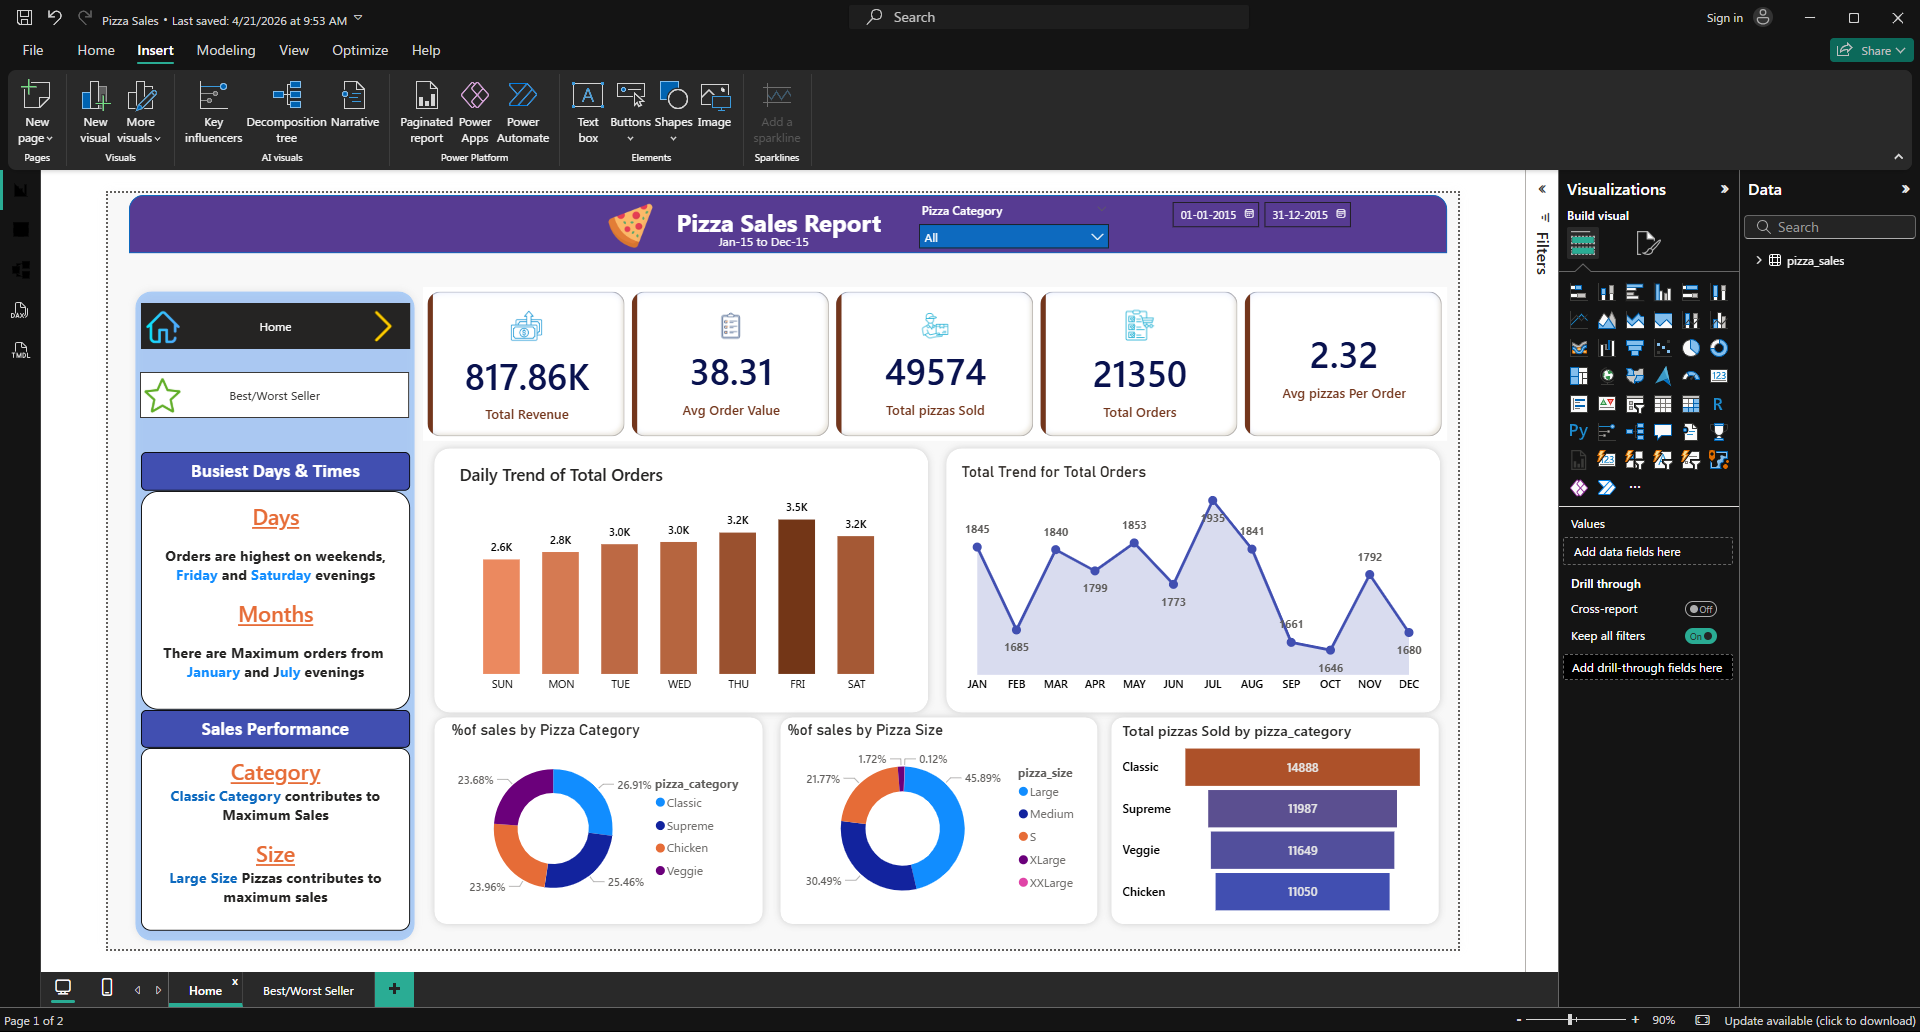

What the dashboard file says about the page in this screenshot:
{"tool":"powerbi","page":{"name":"Home","canvas":[1500,839],"ordinal":0},"visuals":[{"type":"cardVisual","fields":{"Data":["pizza_sales.Total Revenue","pizza_sales.Avg Order Value","pizza_sales.Total pizzas Sold","pizza_sales.Total Orders","pizza_sales.Avg pizzas Per Order"]},"box":[350,87.8,1137.8,170.7],"z":0},{"type":"shape","box":[23.2,2.4,1464.6,64.6],"z":1000},{"type":"textbox","box":[626.8,8.5,246.3,53.7],"z":2000},{"type":"textbox","box":[673.4,40.3,122.9,31],"z":3000},{"type":"image","box":[550.5,0,60.9,73.3],"z":4000},{"type":"shape","box":[354.2,275.7,564.9,309.8],"z":5000},{"type":"columnChart","title":"Daily Trend of Total Orders","fields":{"Category":["pizza_sales.order Day"],"Y":["pizza_sales.Total Orders"]},"box":[385.2,299.5,498.8,264.4],"z":6000},{"type":"shape","box":[923.3,275.7,564.9,309.8],"z":7000},{"type":"areaChart","title":"Total Trend for Total Orders","fields":{"Category":["pizza_sales.Order Month"],"Y":["pizza_sales.Total Orders"]},"box":[942.9,299.5,524.6,264.4],"z":8000},{"type":"shape","box":[354.2,574.2,381.1,245.8],"z":9000},{"type":"shape","box":[738.4,574.2,368.7,245.8],"z":10000},{"type":"shape","box":[1107.1,574.2,380.1,245.8],"z":11000},{"type":"shape","box":[22.2,101.1,326.7,737.8],"z":12000},{"type":"donutChart","title":"%of sales by Pizza Category","fields":{"Category":["pizza_sales.pizza_category"],"Y":["pizza_sales.Total Revenue"]},"box":[377,586.6,346,220],"z":13000},{"type":"donutChart","title":"%of sales by Pizza Size","fields":{"Y":["pizza_sales.Total Revenue"],"Category":["pizza_sales.pizza_size"]},"box":[749.8,586.6,346,220],"z":14000},{"type":"funnel","fields":{"Category":["pizza_sales.pizza_category"],"Y":["pizza_sales.Total pizzas Sold"]},"box":[1122.3,586.9,345.4,220],"z":15000},{"type":"textbox","box":[36.7,287.8,298.9,43.3],"z":16000},{"type":"textbox","box":[37.1,331.4,299.3,242.9],"z":17000},{"type":"textbox","box":[36.7,574.4,298.9,42.2],"z":18000},{"type":"textbox","box":[36.7,616.7,298.9,203.3],"z":19000},{"type":"slicer","fields":{"Values":["pizza_sales.pizza_category"]},"box":[891.1,5.6,231.1,61.1],"z":20000},{"type":"slicer","fields":{"Values":["pizza_sales.order_date"]},"box":[1170,0,227.6,66.5],"z":21000}]}

Visuals, with their boxes on the page's 1500x839 design canvas (x1, y1, x2, y2). These are canvas units, not pixel positions in the 1920x1032 screenshot, which may show the page scaled, cropped or inside an application window:
cardVisual - pizza_sales.Total Revenue x pizza_sales.Avg Order Value: x1=350, y1=88, x2=1488, y2=258
shape: x1=23, y1=2, x2=1488, y2=67
textbox: x1=627, y1=8, x2=873, y2=62
textbox: x1=673, y1=40, x2=796, y2=71
image: x1=550, y1=0, x2=611, y2=73
shape: x1=354, y1=276, x2=919, y2=586
"Daily Trend of Total Orders" columnChart: x1=385, y1=300, x2=884, y2=564
shape: x1=923, y1=276, x2=1488, y2=586
"Total Trend for Total Orders" areaChart: x1=943, y1=300, x2=1468, y2=564
shape: x1=354, y1=574, x2=735, y2=820
shape: x1=738, y1=574, x2=1107, y2=820
shape: x1=1107, y1=574, x2=1487, y2=820
shape: x1=22, y1=101, x2=349, y2=839
"%of sales by Pizza Category" donutChart: x1=377, y1=587, x2=723, y2=807
"%of sales by Pizza Size" donutChart: x1=750, y1=587, x2=1096, y2=807
funnel - pizza_sales.pizza_category x pizza_sales.Total pizzas Sold: x1=1122, y1=587, x2=1468, y2=807
textbox: x1=37, y1=288, x2=336, y2=331
textbox: x1=37, y1=331, x2=336, y2=574
textbox: x1=37, y1=574, x2=336, y2=617
textbox: x1=37, y1=617, x2=336, y2=820
slicer - pizza_sales.pizza_category: x1=891, y1=6, x2=1122, y2=67
slicer - pizza_sales.order_date: x1=1170, y1=0, x2=1398, y2=66
